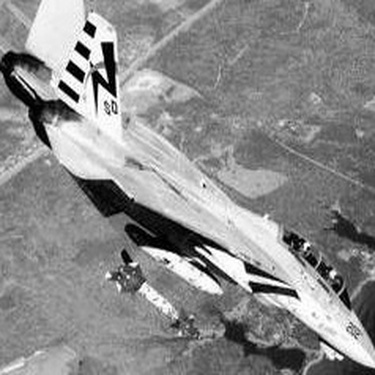airplane: (4, 3, 371, 371)
